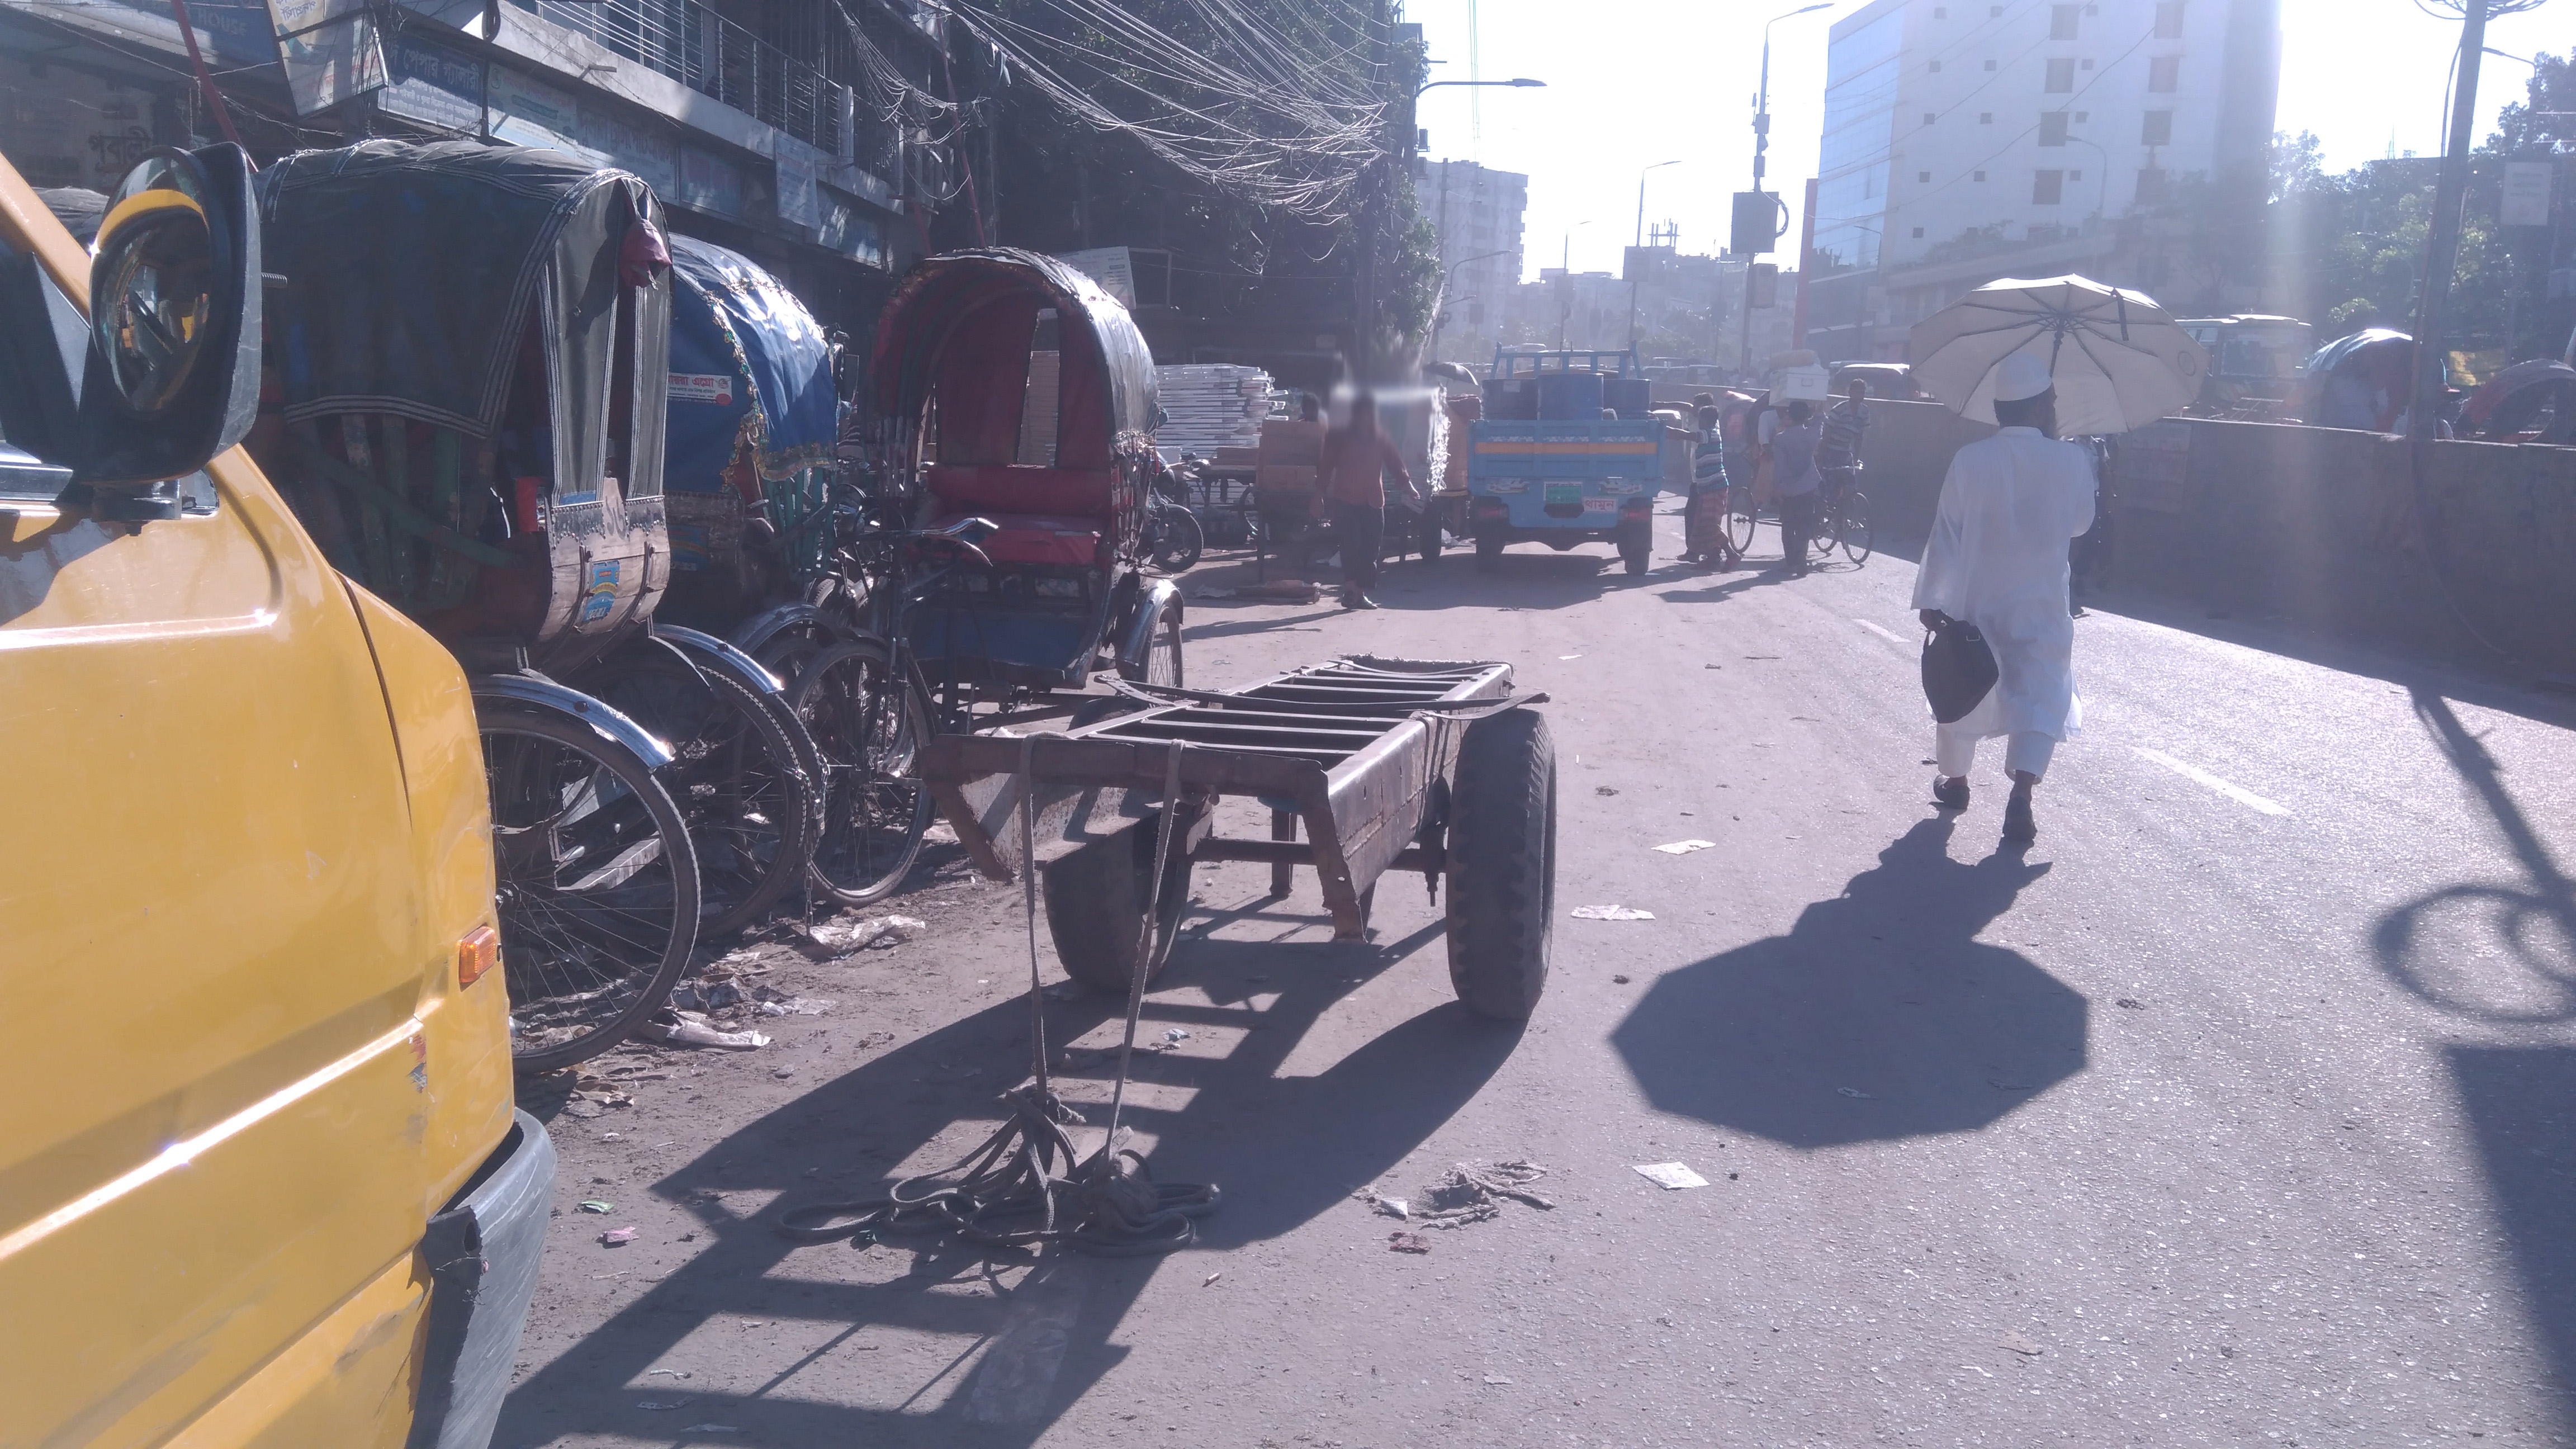rickshaw: (209, 145, 817, 1030), (704, 211, 1203, 911), (630, 198, 847, 722), (1706, 364, 1893, 602), (2281, 308, 2463, 439)
truck: (0, 12, 552, 1433), (1456, 338, 1686, 573)
wheelbarrow: (915, 625, 1599, 1090)
